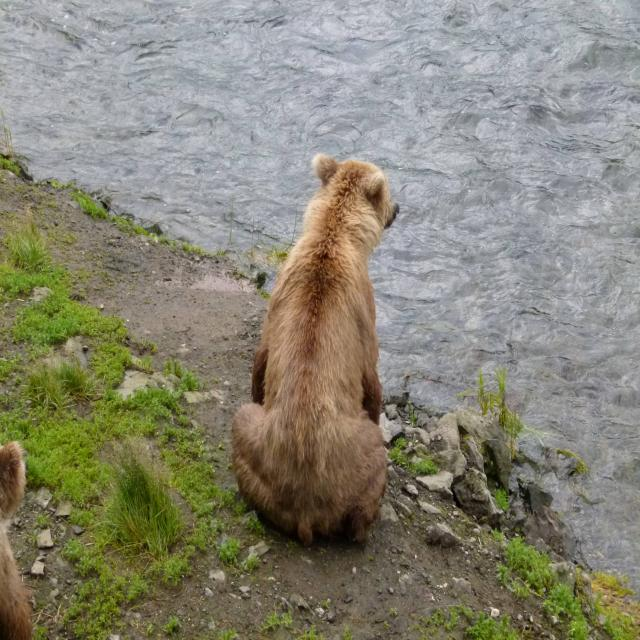bear face: (232, 152, 401, 555), (0, 436, 29, 639)
